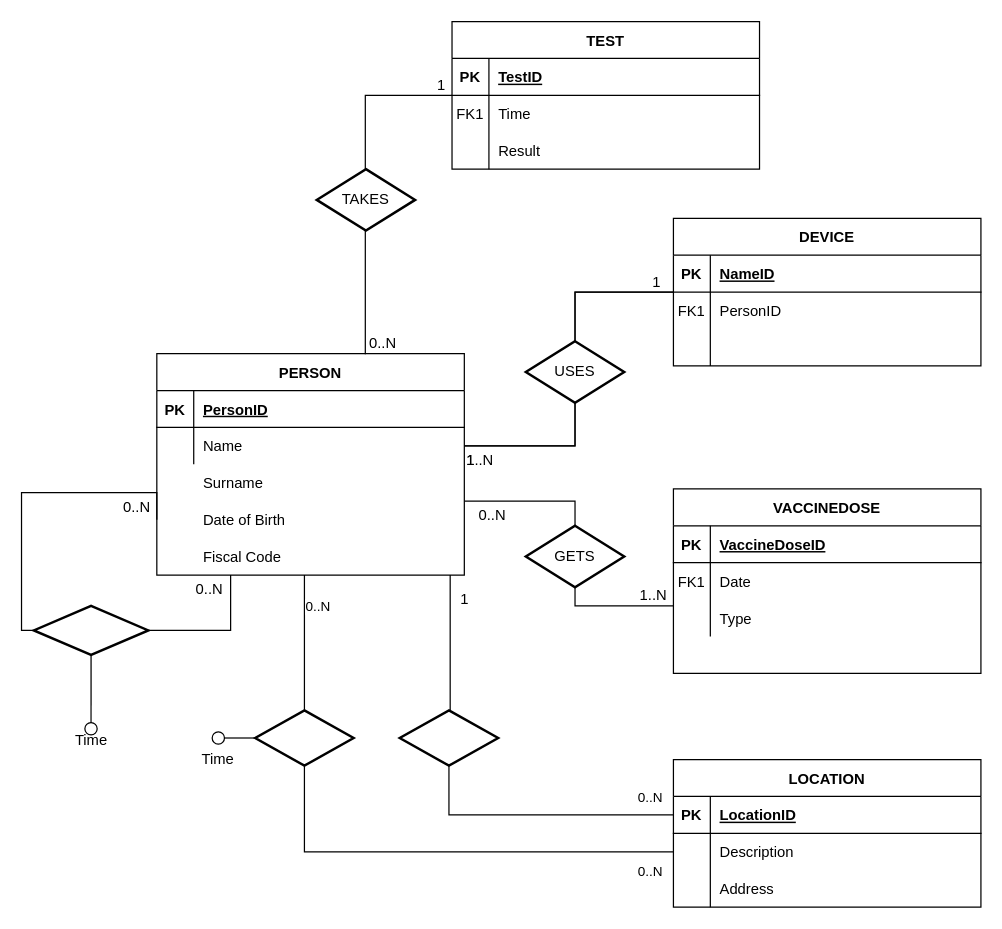
This 1002x929 diagram has some shape labels left out. The centre of each missing label's shape, as x and y in pixels:
ATTENDED: the point at 303,737
CONTACT: the point at 90,630
LIVES IN: the point at 448,737
